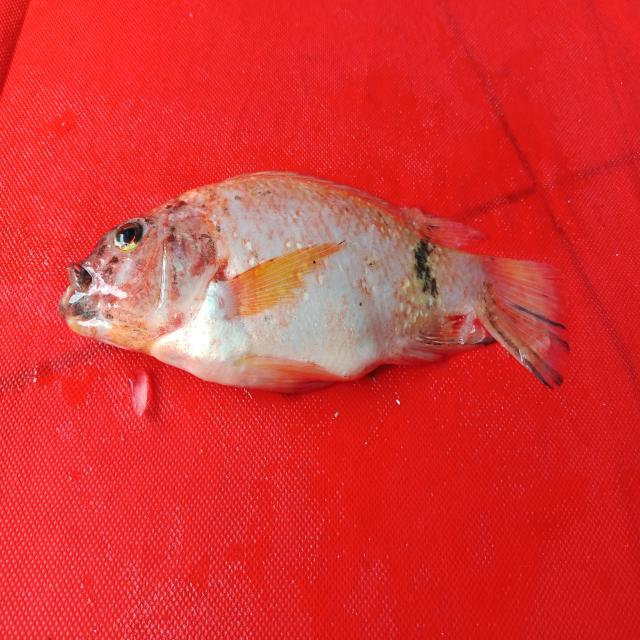ikan: (58, 168, 571, 396)
